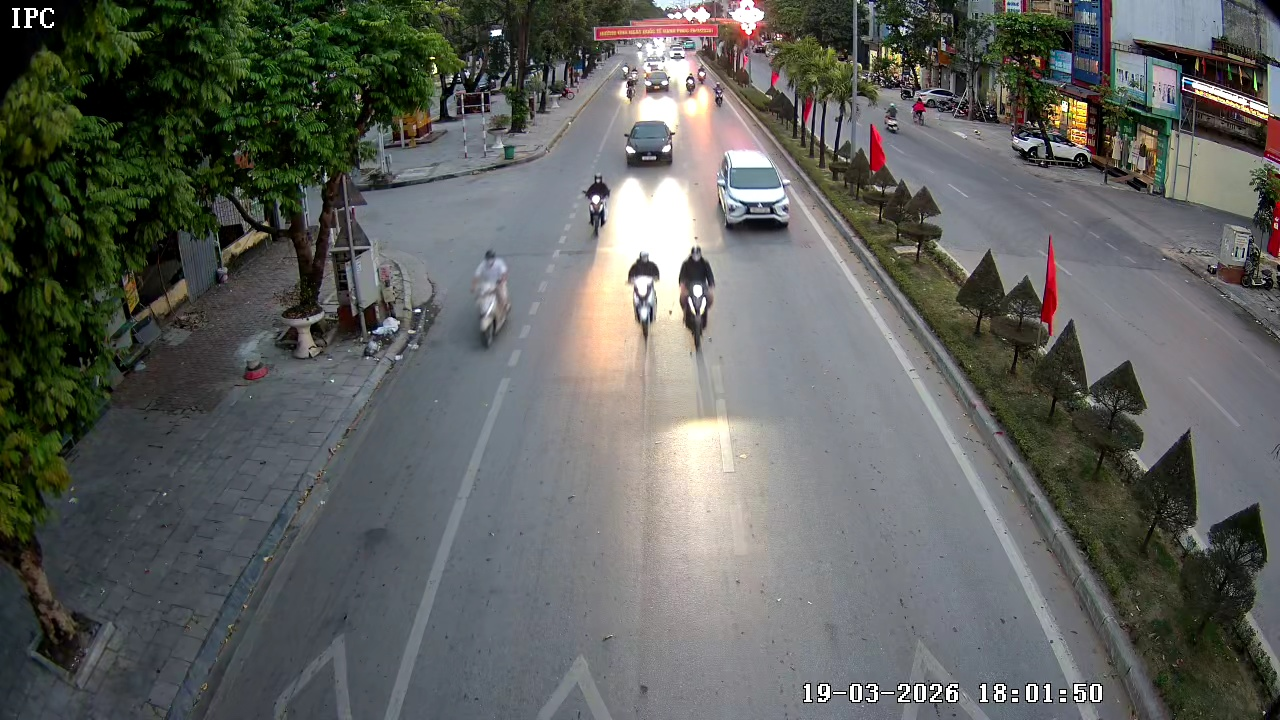car: (714, 148, 791, 233), (624, 110, 677, 167), (642, 71, 673, 95)
motorbike: (675, 240, 726, 358), (467, 247, 514, 349), (622, 246, 664, 343), (580, 170, 612, 238), (712, 81, 731, 114), (687, 72, 697, 95)
truck: (1009, 120, 1053, 169)
